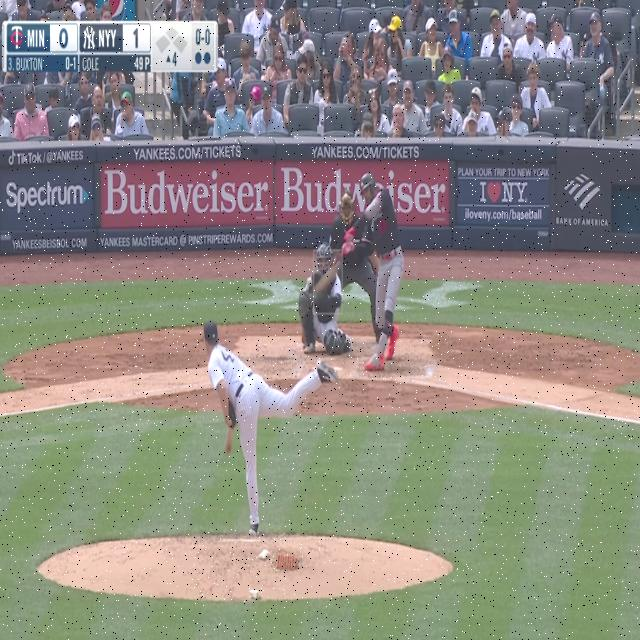baseball: (306, 276, 313, 287)
